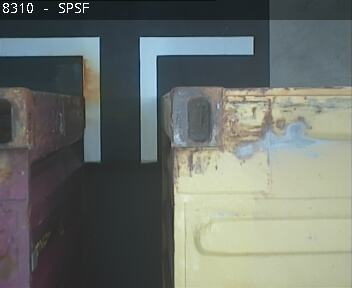groundmarker_1: (1, 35, 253, 162)
